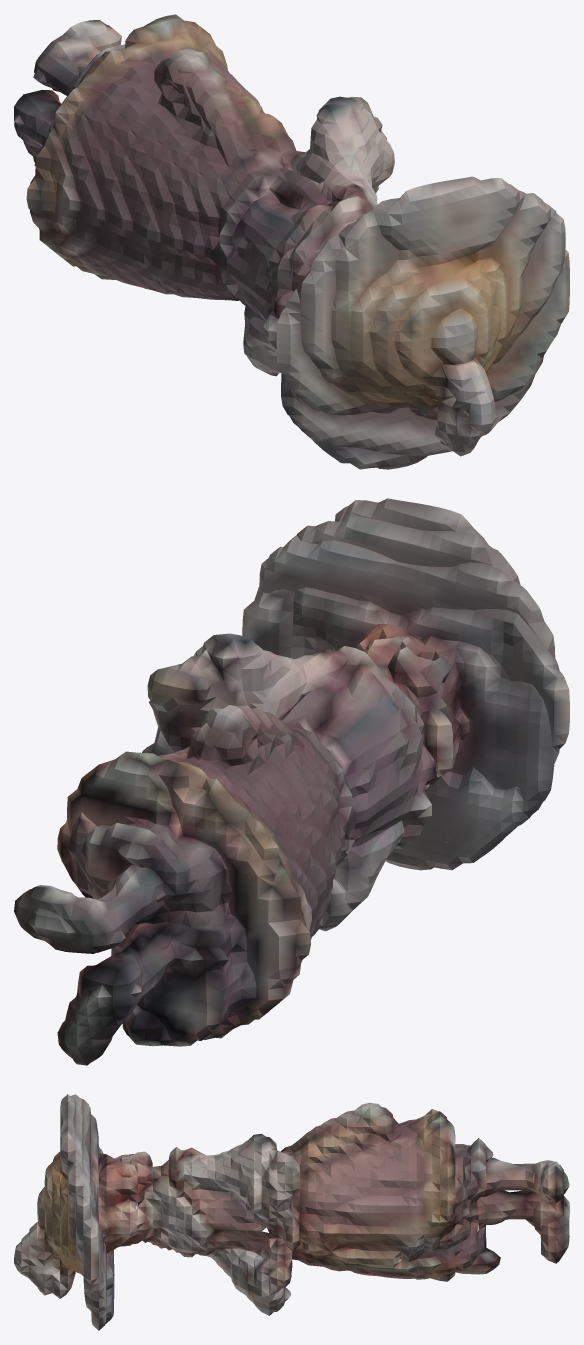
File: renais_commoner_f_0.glb
The picture shows the model from 3 angles, top to bottom: view 1: azimuth 30°, elevation 25°; view 2: azimuth 150°, elevation 25°; view 3: azimuth 270°, elevation 25°; orthographic projection. The views are drawn at different scales.
Visible parts, largest first — view 1: world; view 2: world; view 3: world.
Part boxes in pixels (x1,y1,x2,y2): world: [14, 14, 569, 469]; world: [14, 498, 569, 1065]; world: [14, 1094, 569, 1330].
Size of the model in its own units: 0.4372 by 0.4193 by 0.9827.
